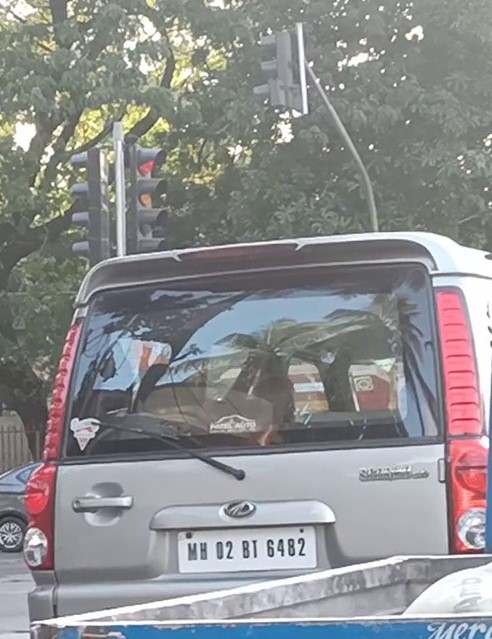MH02BT6482: (177, 525, 317, 573)
